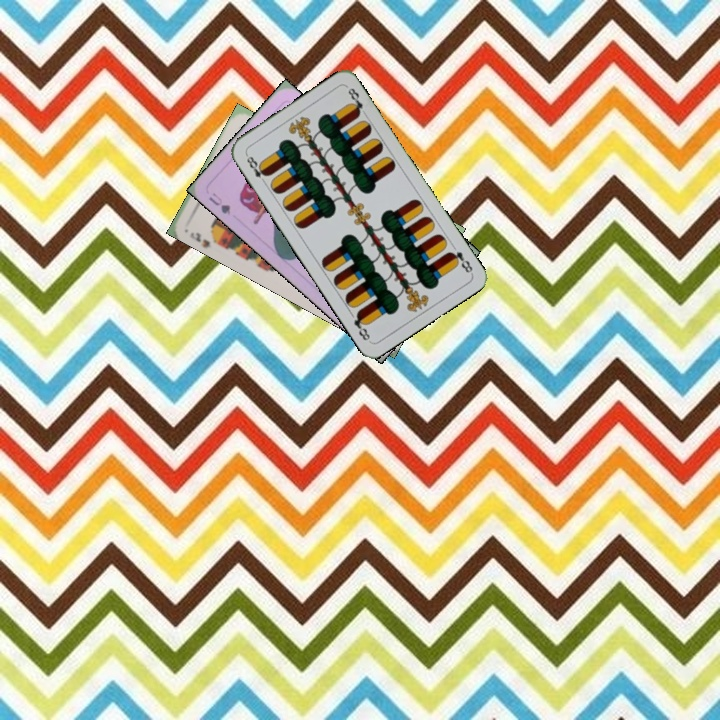E8: (242, 150, 271, 187), (445, 247, 476, 276)
GU: (205, 188, 233, 217)
S9: (186, 228, 219, 250)
